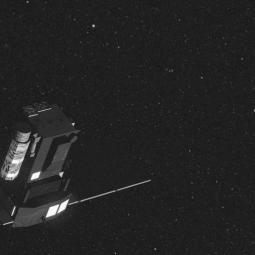soho: (0, 97, 96, 226)
